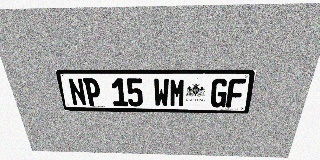1: (110, 78, 128, 106)
5: (126, 78, 143, 106)
F: (226, 78, 246, 108)
G: (210, 78, 229, 107)
M: (169, 78, 186, 107)
N: (67, 78, 87, 106)
P: (83, 78, 102, 106)
W: (153, 78, 169, 107)
